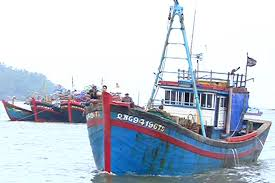tau_dansu: (93, 49, 270, 170), (55, 80, 88, 128), (25, 83, 59, 124), (3, 93, 31, 123)
